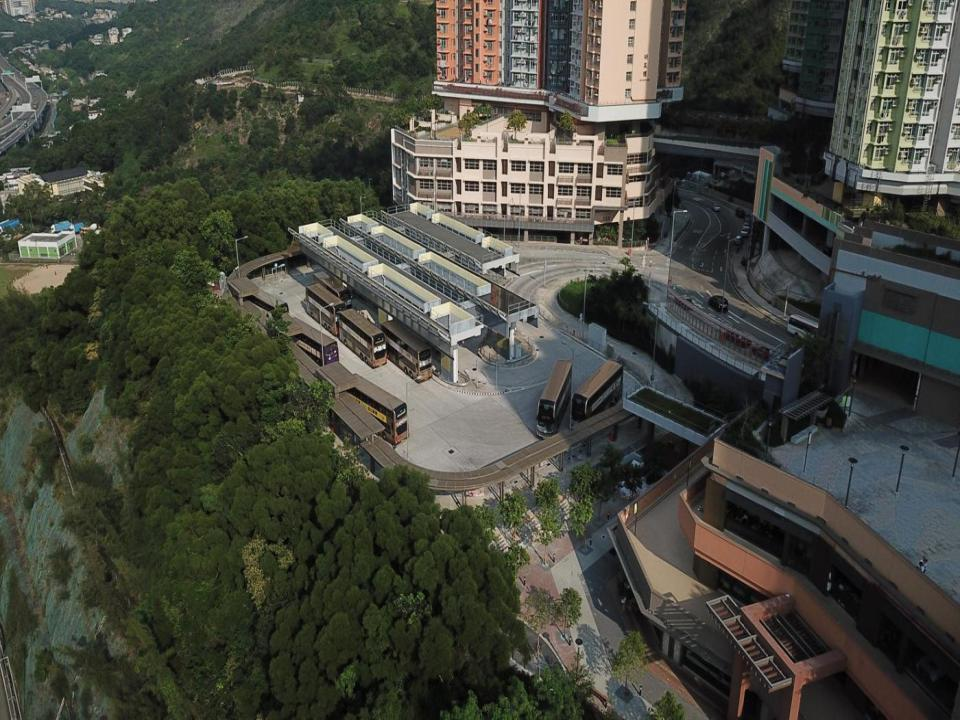bus: (340, 373, 409, 445), (281, 316, 340, 378), (571, 359, 624, 428), (380, 319, 434, 383), (535, 359, 572, 440), (339, 307, 387, 369), (237, 282, 290, 337), (304, 282, 348, 337), (312, 270, 352, 320), (786, 314, 831, 347)
car: (724, 326, 753, 348), (751, 341, 776, 362), (673, 293, 695, 312), (708, 294, 729, 313), (711, 202, 721, 212)
